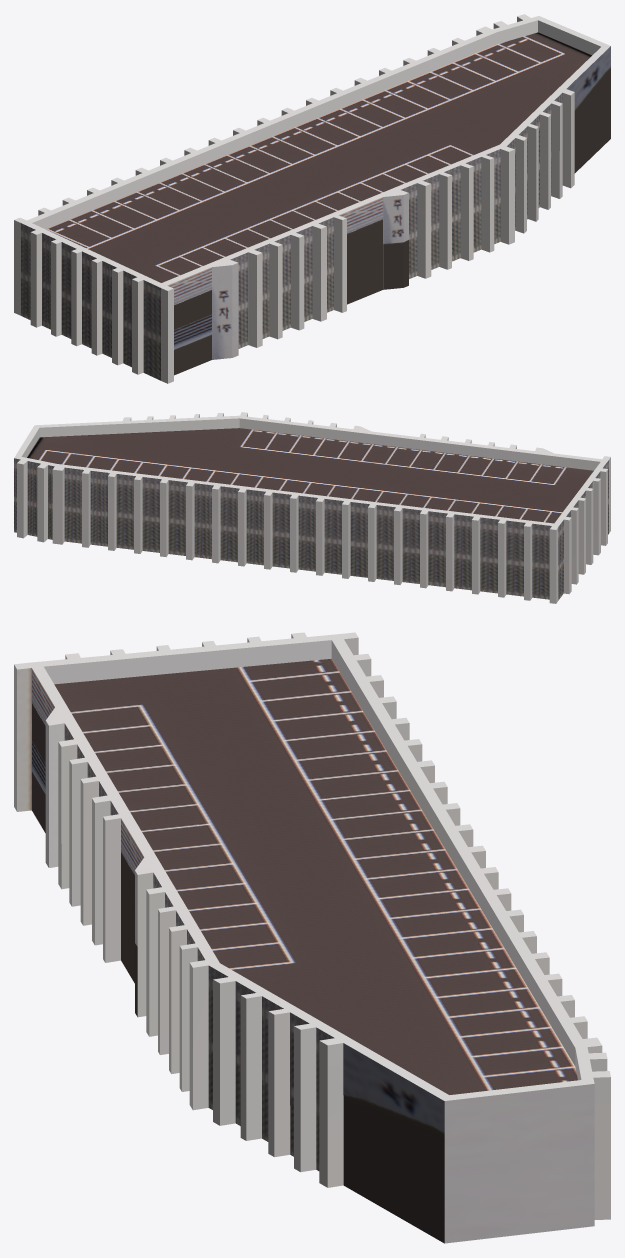
Rendered from ICJ00013.glb.
The picture shows the model from 3 angles, top to bottom: view 1: azimuth 30°, elevation 25°; view 2: azimuth 150°, elevation 25°; view 3: azimuth 270°, elevation 25°; orthographic projection. The views are drawn at different scales.
Visible parts, largest first — view 1: MainBuilding; view 2: MainBuilding; view 3: MainBuilding.
Part boxes in pixels (x1,y1,x2,y2): MainBuilding: [14, 14, 610, 383]; MainBuilding: [14, 412, 610, 603]; MainBuilding: [14, 632, 610, 1243].
Bounding box in the file's own units: 904 × 128 × 487.
Materials: 1 (1 with a texture image).
